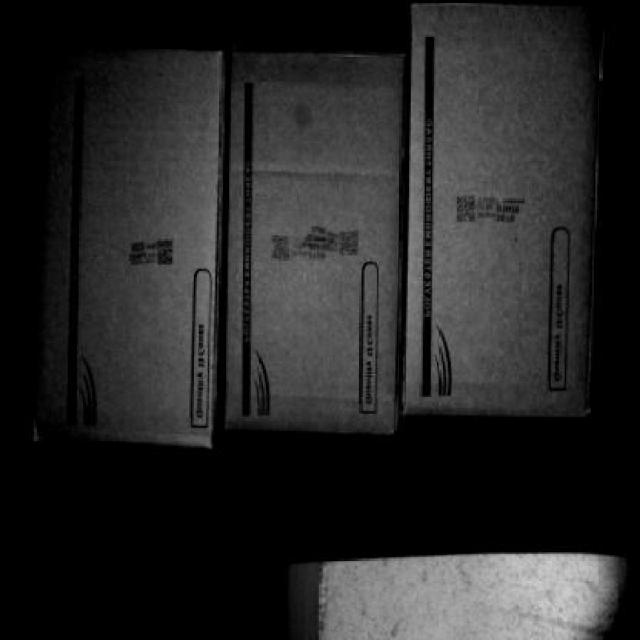cardboxes: (402, 1, 606, 412), (31, 49, 222, 442), (222, 48, 404, 429)
